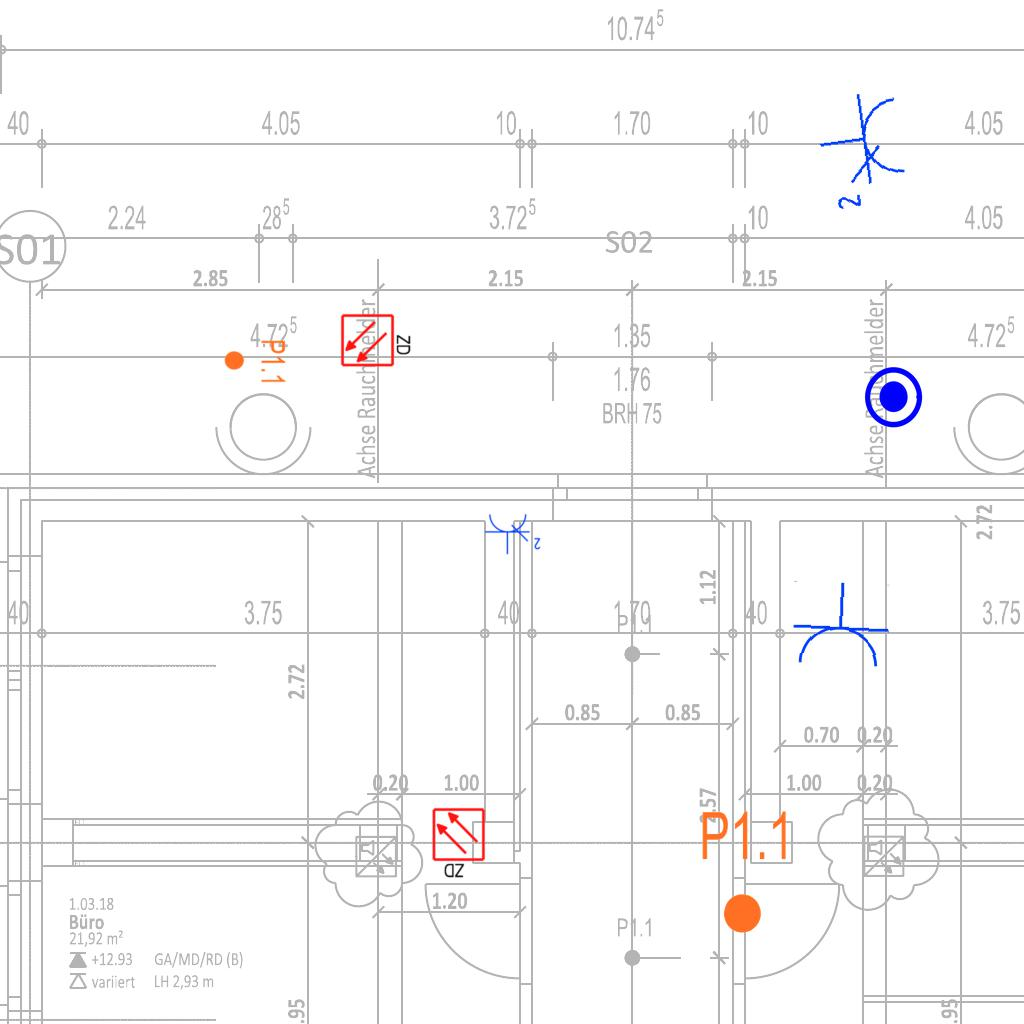Downlight_LED_Einbauleuchten_Flur_2: (699, 808, 792, 936), (223, 339, 287, 385)
Schukosteckdose_einfach: (787, 579, 893, 672)
Schukosteckdose_mehrfach: (812, 86, 916, 219), (484, 511, 544, 555)
Taster: (863, 364, 929, 430)
ZD_Melder_in_Zwischendecke_mit_Revisionsoeffnung_mind_40_x_40_cm: (340, 311, 414, 368), (431, 807, 488, 881)
